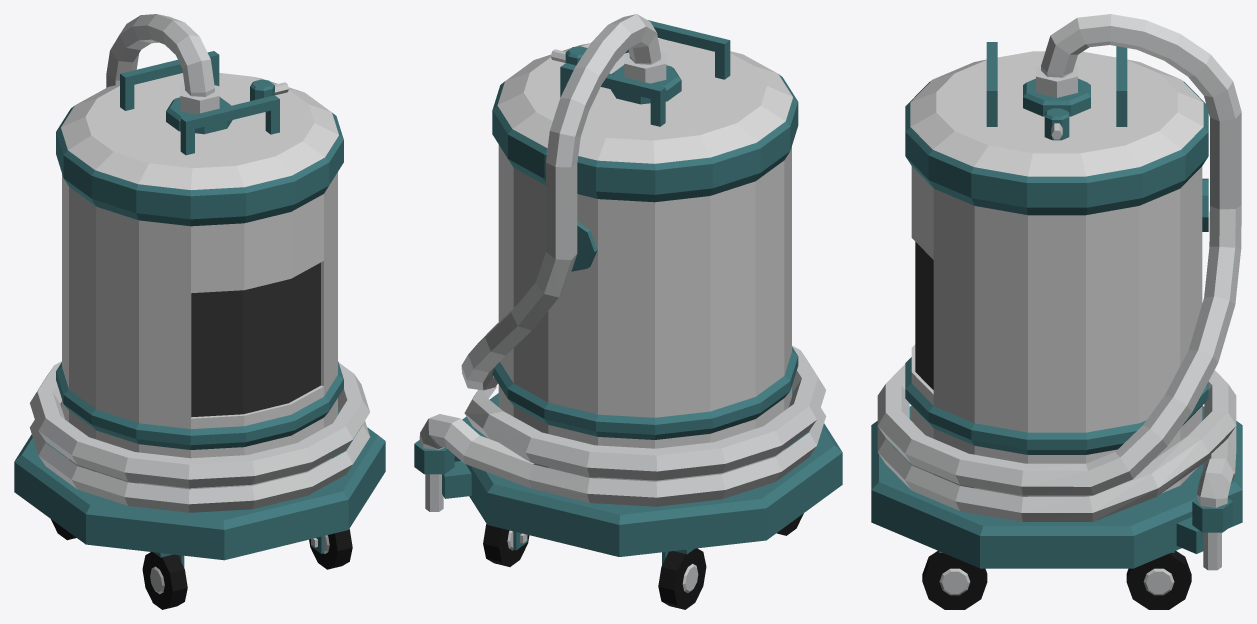
The model's file is nitrogen-dewar-wheeled-c9986e.glb.
3 renders of one model, left to right at view 1: azimuth 30°, elevation 25°; view 2: azimuth 150°, elevation 25°; view 3: azimuth 270°, elevation 25°, orthographic. The views are drawn at different scales.
Parts seen in each view (by area): view 1: nitrogen-dewar-wheeled, wheel-fl, wheel-fr; view 2: nitrogen-dewar-wheeled, wheel-rl, wheel-rr; view 3: nitrogen-dewar-wheeled, wheel-fr, wheel-rr.
Part boxes in pixels (x1,y1,x2,y2): nitrogen-dewar-wheeled: (14, 14, 385, 560); wheel-fl: (142, 552, 187, 609); wheel-fr: (309, 529, 352, 569); nitrogen-dewar-wheeled: (414, 14, 842, 564); wheel-rl: (658, 548, 706, 609); wheel-rr: (483, 524, 529, 566); nitrogen-dewar-wheeled: (871, 14, 1242, 570); wheel-fr: (922, 551, 987, 609); wheel-rr: (1126, 551, 1191, 609).
Bounding box in the file's own units: 0.6 × 0.9779 × 0.6.
